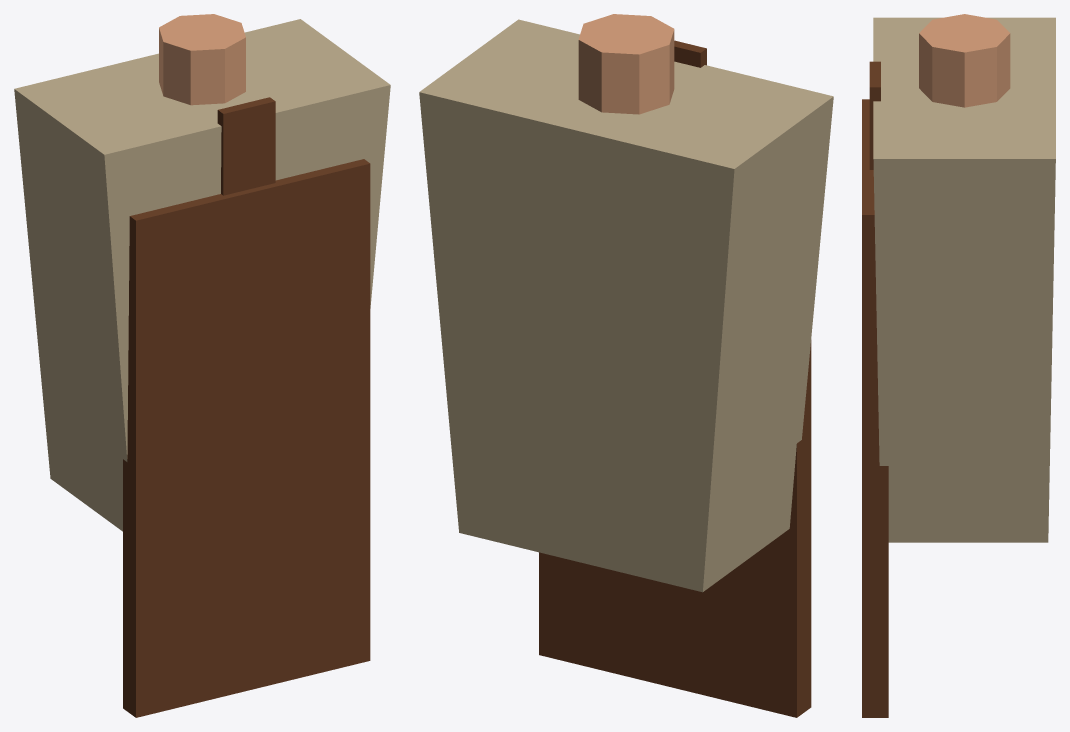
File: smith_torso.glb
3 views of the same model, side by side, from view 1: azimuth 30°, elevation 25°; view 2: azimuth 150°, elevation 25°; view 3: azimuth 270°, elevation 25° (orthographic). The views are drawn at different scales.
Parts seen in each view (by area): view 1: smith_torso; view 2: smith_torso; view 3: smith_torso.
Boxes of the visible parts, bbox=[...] form: smith_torso: bbox=[14, 14, 390, 717]; smith_torso: bbox=[419, 14, 833, 717]; smith_torso: bbox=[862, 14, 1055, 717].
Bounding box in the file's own units: 0.44 × 0.91 × 0.255.
